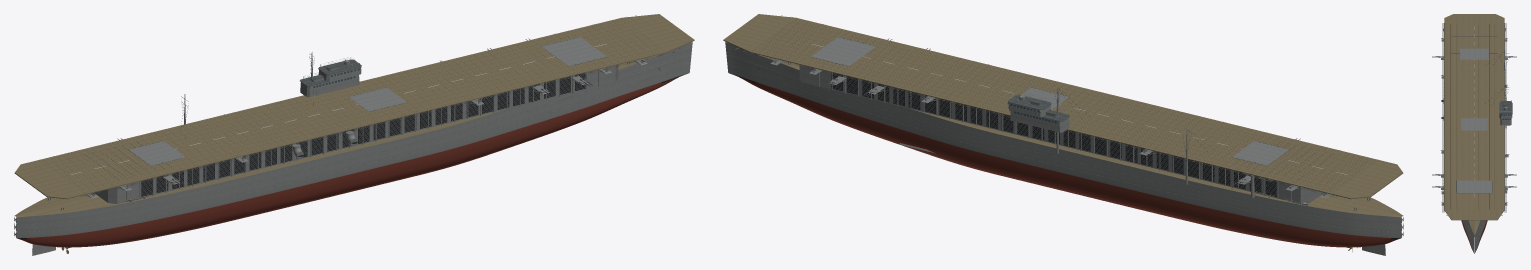
Rendered from demo-hiryu.glb.
3 views of the same model, side by side, from view 1: azimuth 30°, elevation 25°; view 2: azimuth 150°, elevation 25°; view 3: azimuth 270°, elevation 25° (orthographic). The views are drawn at different scales.
Parts seen in each view (by area): view 1: Hiryu, Midway1942; view 2: Hiryu, Midway1942; view 3: Hiryu, Midway1942.
Boxes of the visible parts, x1,y1,x2,y2 form: Hiryu, Midway1942: (14, 14, 694, 255); Hiryu, Midway1942: (723, 14, 1403, 255); Hiryu, Midway1942: (1432, 14, 1516, 253).
Bounding box in the file's own units: 227 × 36.64 × 37.72.
Materials: 10 (9 with a texture image).
